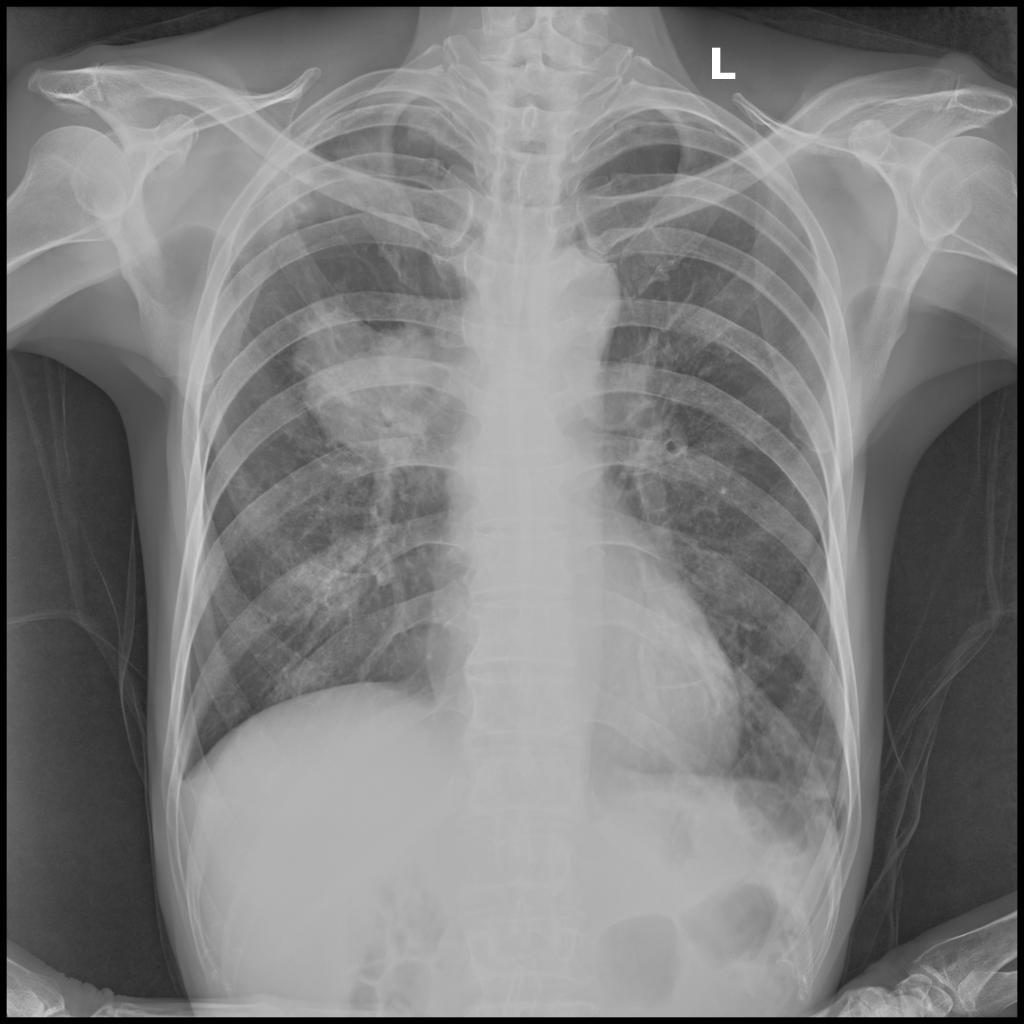Nodule: (297, 304, 444, 465)
